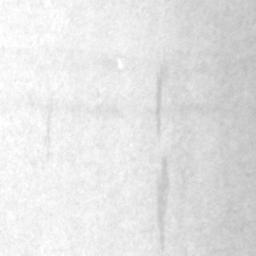Inclusion: (156, 160, 172, 242), (156, 81, 163, 127)
